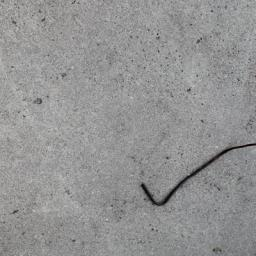FOD: (138, 142, 256, 209)
